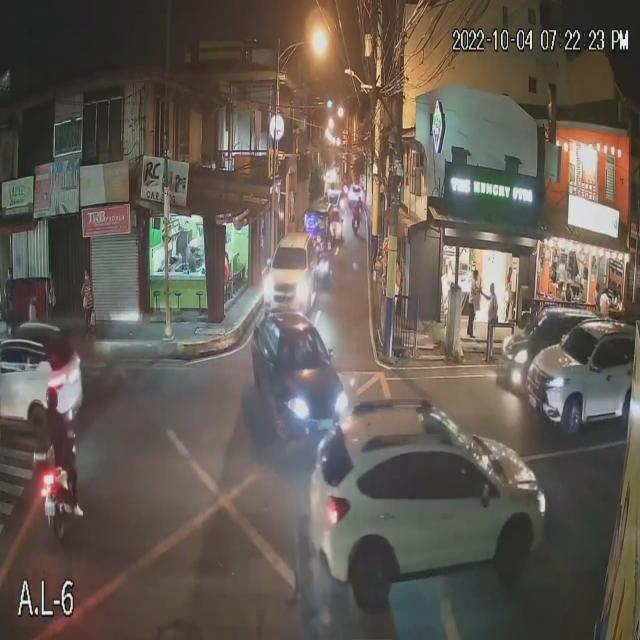Full-Faced: (39, 383, 62, 415)
